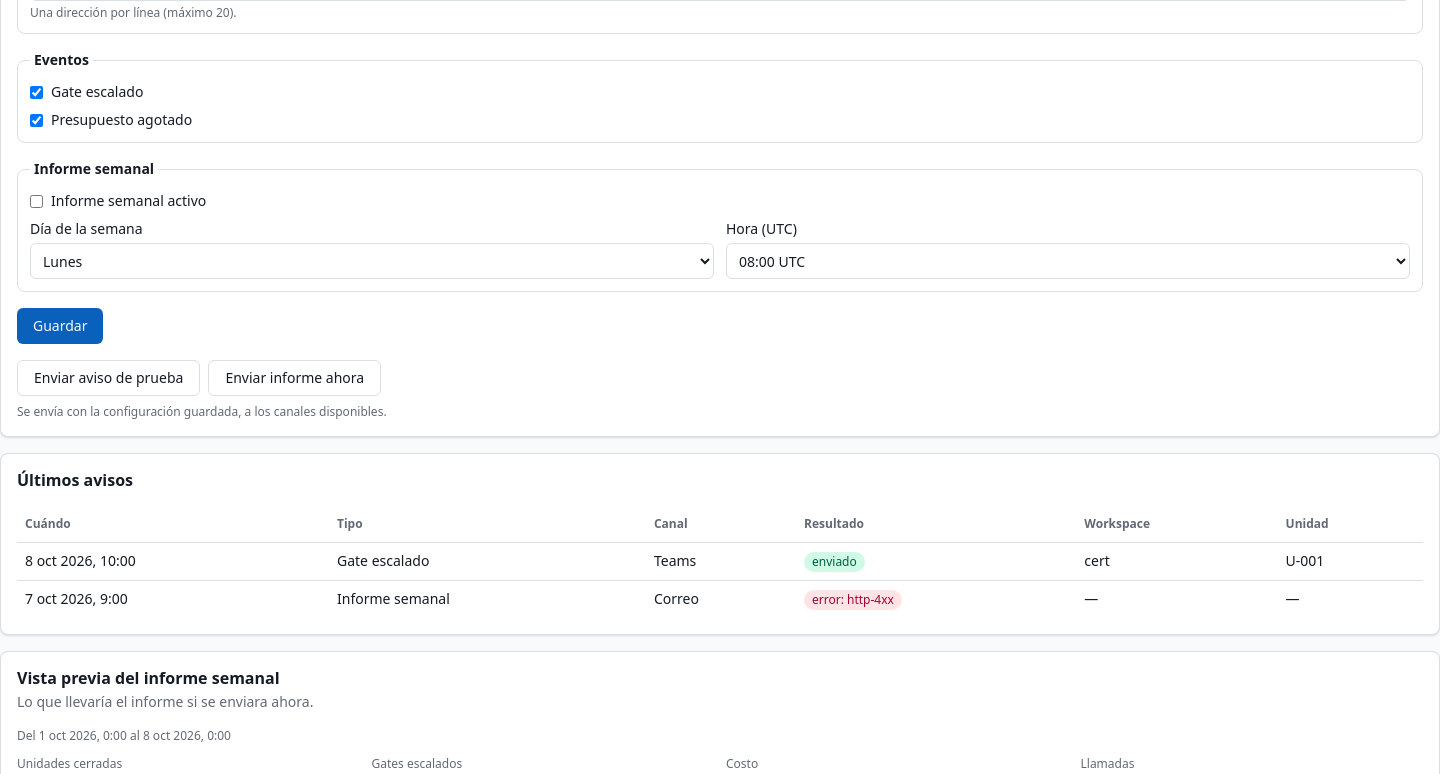
avisos e informes › envía el aviso de prueba y el informe, y muestra el resultado por canal
(page scrolled)
Click the button "Enviar aviso de prueba" at (109, 378), box [17,360,200,396]
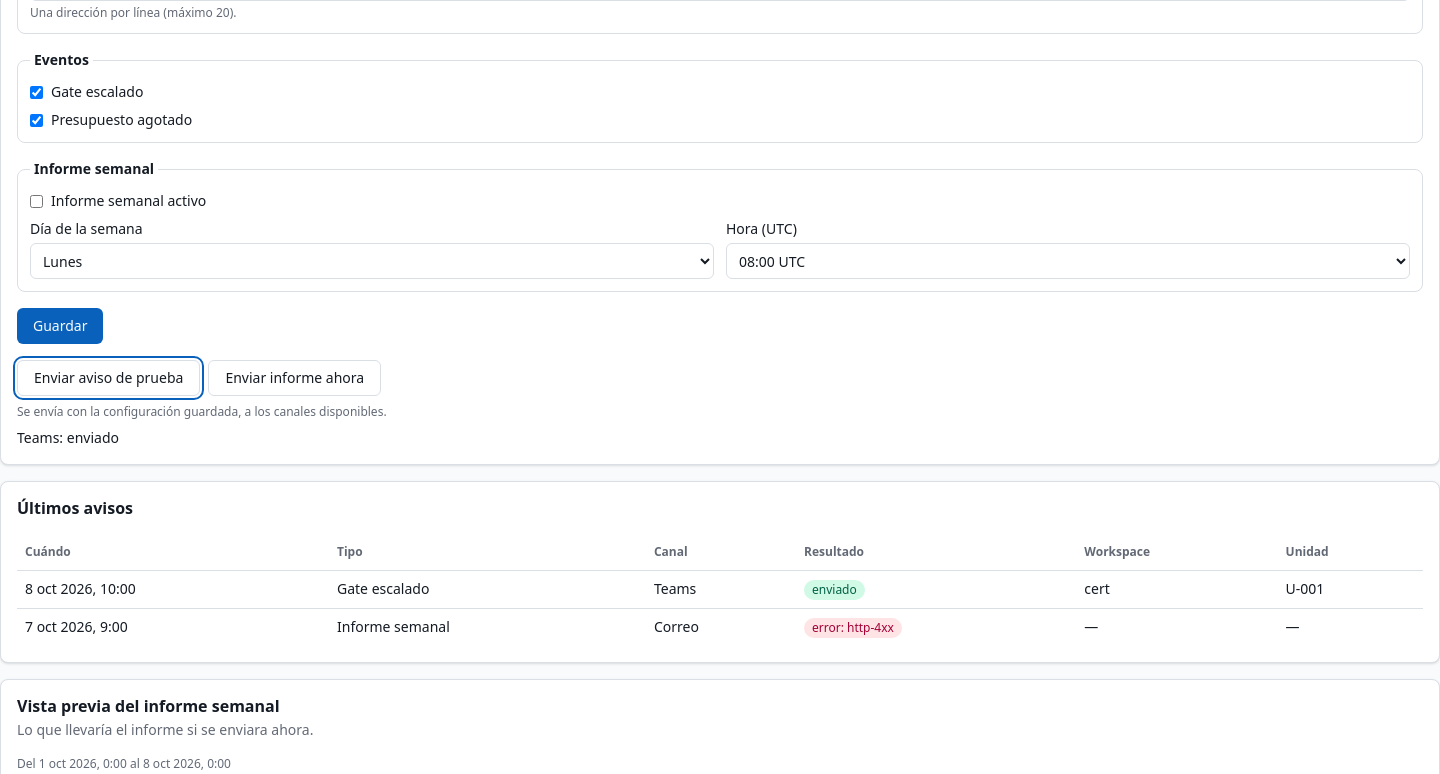
Now the list item "Teams: enviado" is shown, box [17,428,119,447]
Click the button "Enviar informe ahora" at (295, 378), box [208,360,381,396]
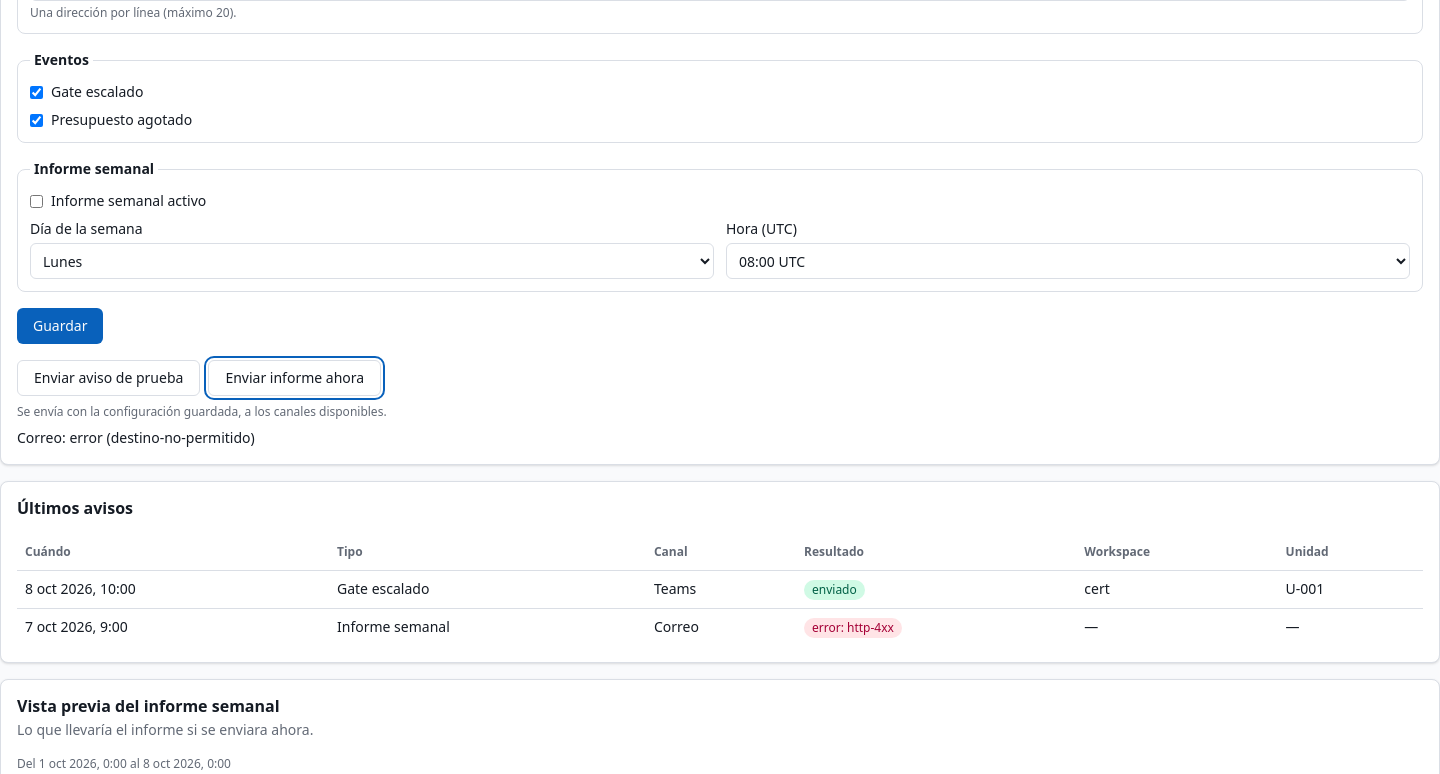
Now the list item "Correo: error (destino-no-permitido)" is shown, box [17,428,255,447]
